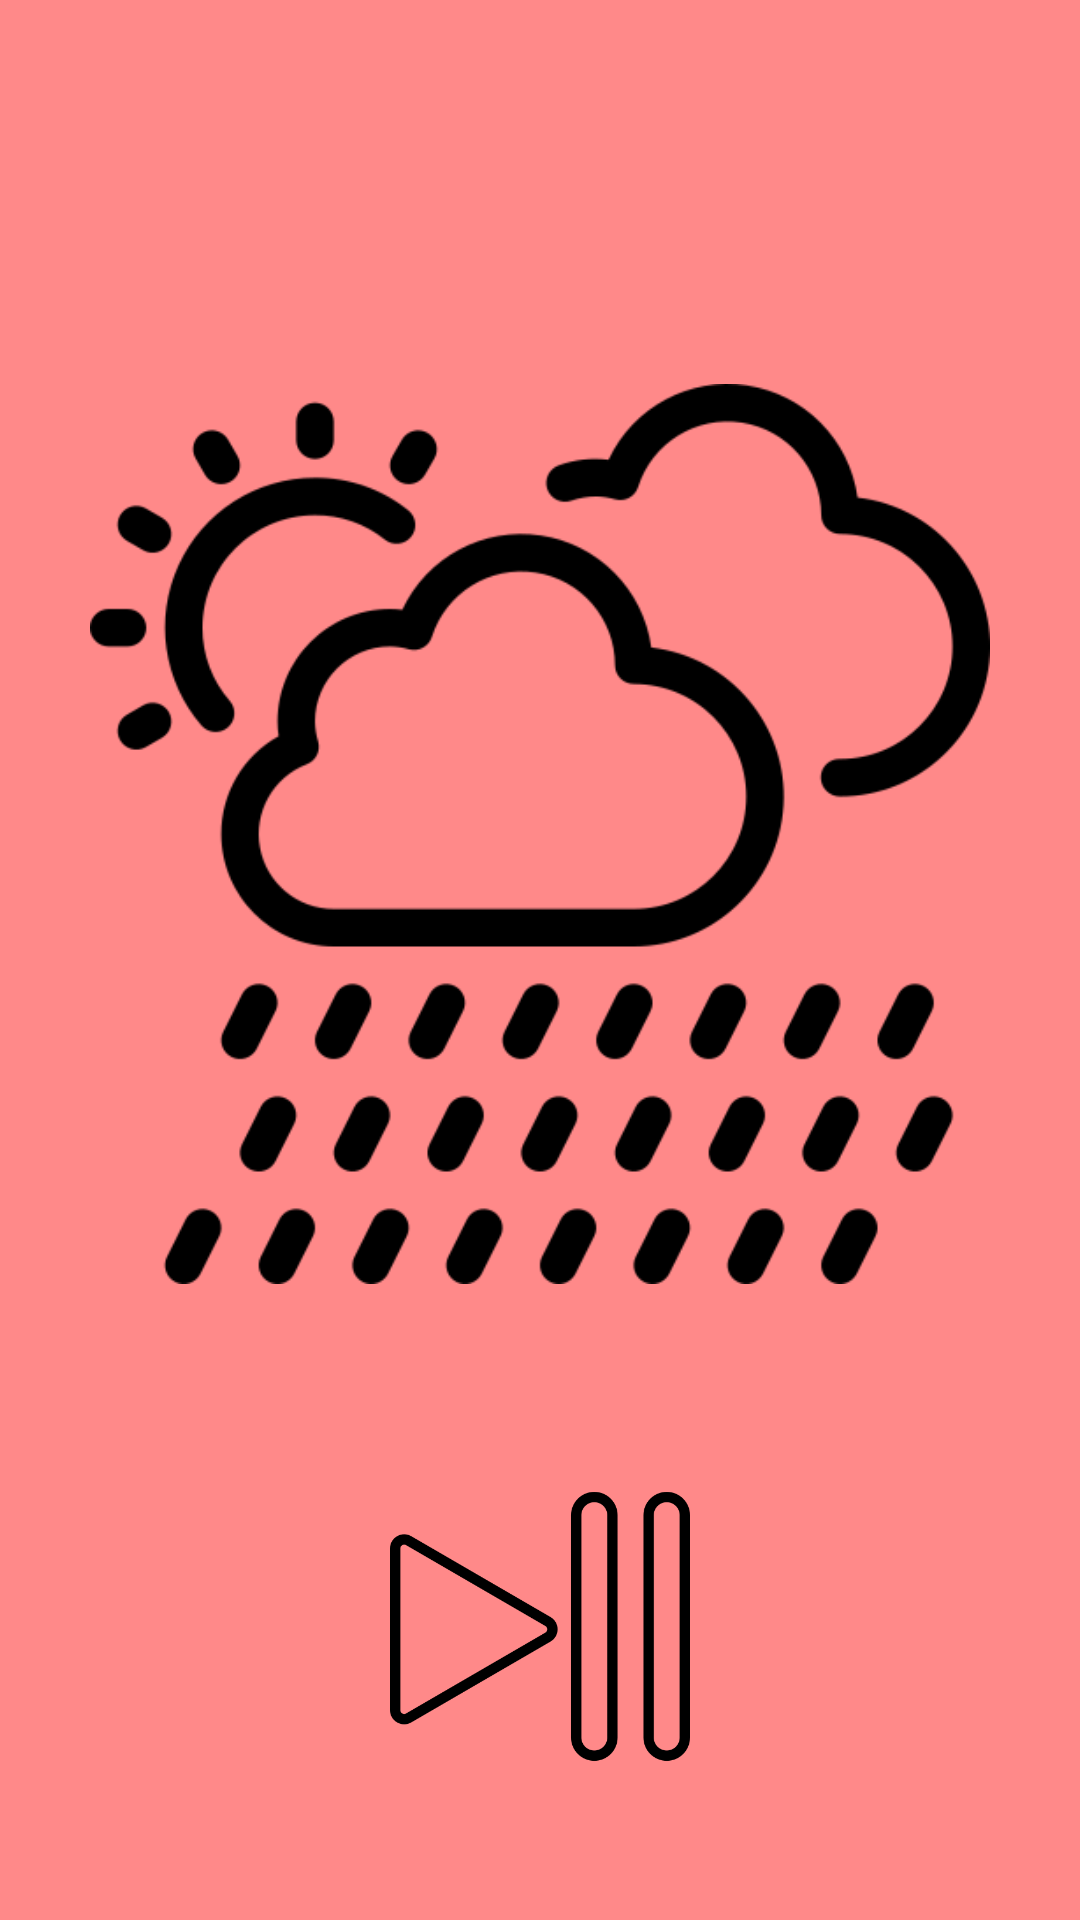

Icon click points for this 1080 x 1920 phone screenshot, format (x=x, y=y):
play: (x=540, y=1626)
